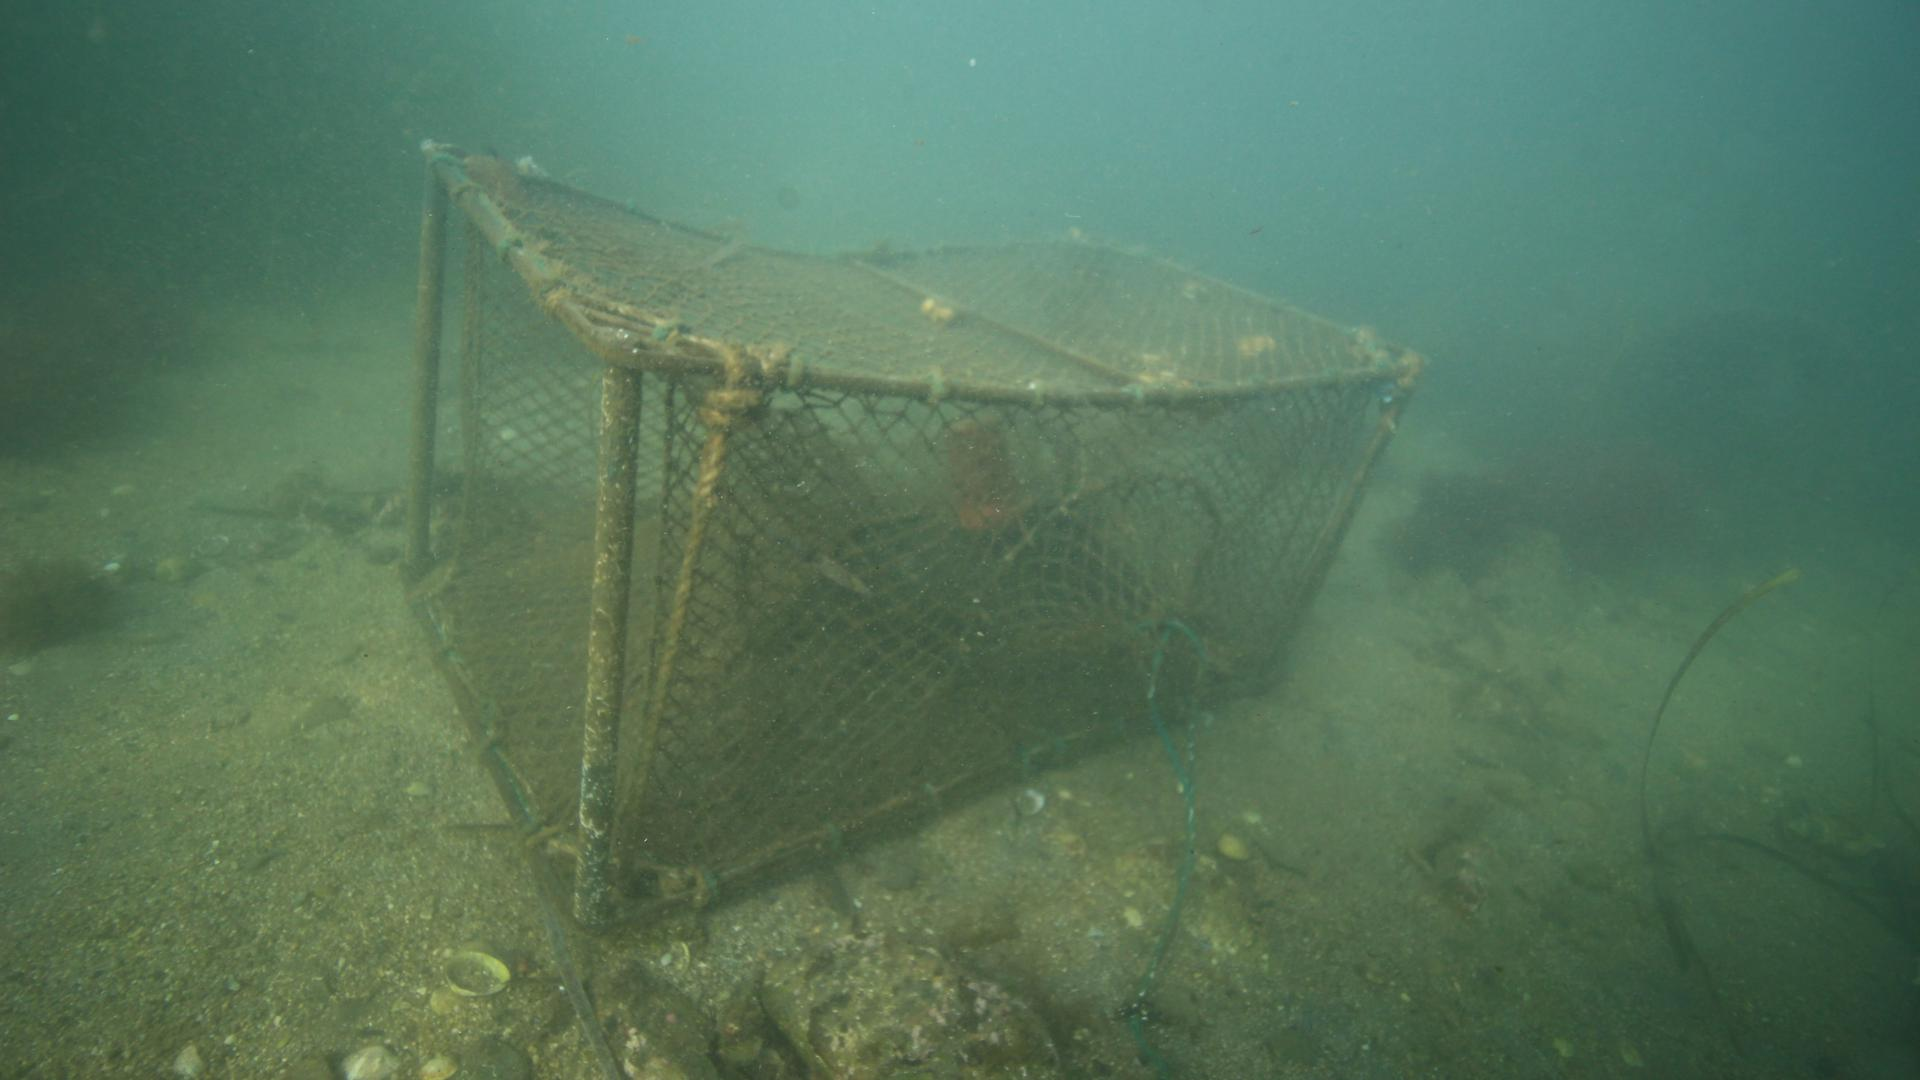rectangular fish trap: (393, 135, 1427, 936)
